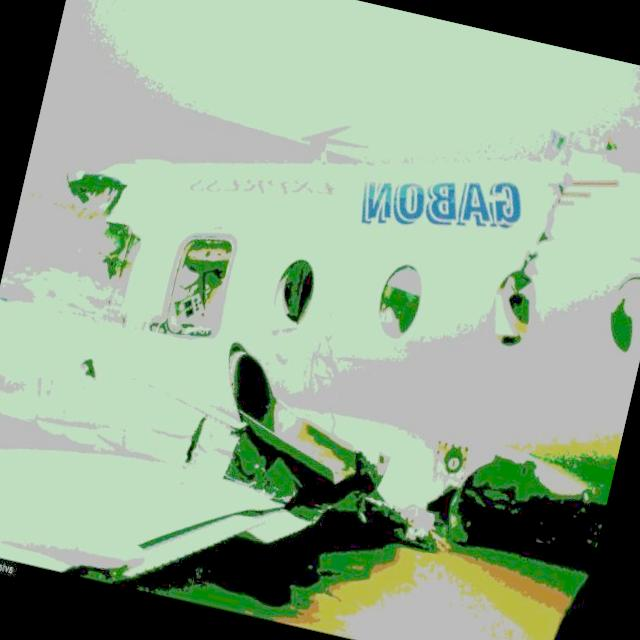crack: (177, 410, 210, 471)
